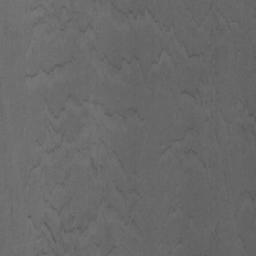Silk spot: (4, 0, 256, 256)
